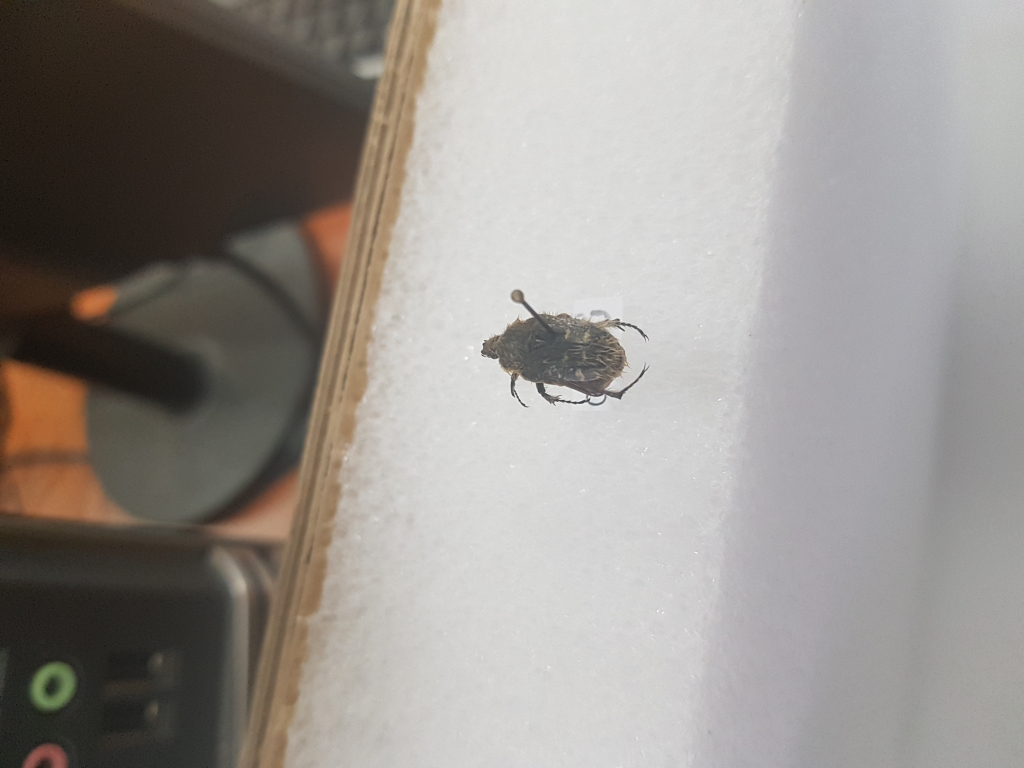Tropinota_hirta: (480, 295, 655, 413)
